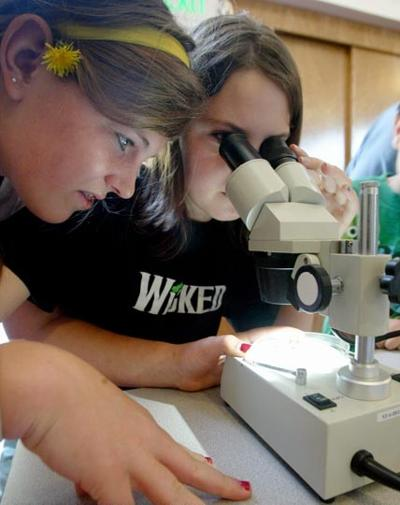person: (5, 13, 361, 351)
